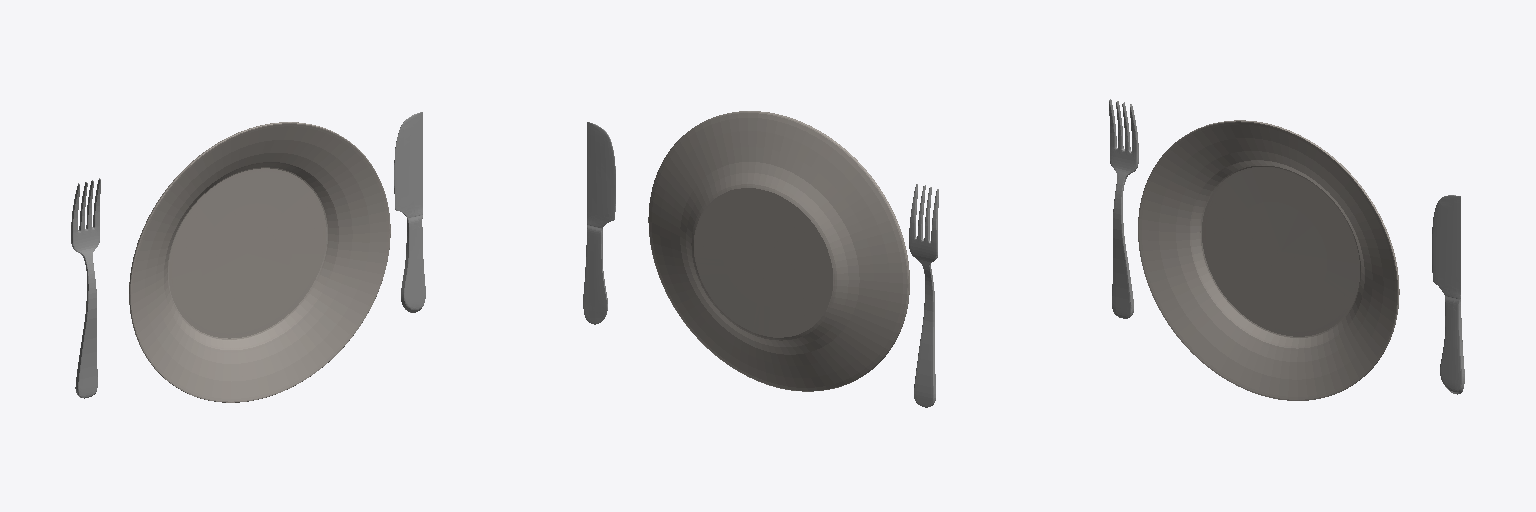
3 views of the same model, side by side, from view 1: azimuth 30°, elevation 25°; view 2: azimuth 150°, elevation 25°; view 3: azimuth 330°, elevation 25° (orthographic).
Visible parts, largest first — view 1: Object.2, Object.3, Object.1; view 2: Object.2, Object.3, Object.1; view 3: Object.2, Object.3, Object.1.
Part boxes in pixels (x1,y1,x2,y2): Object.2: (129,122,390,402); Object.3: (394,112,425,312); Object.1: (71,178,100,398); Object.2: (648,111,909,391); Object.3: (583,122,615,324); Object.1: (909,184,938,407); Object.2: (1138,120,1399,400); Object.3: (1432,195,1464,394); Object.1: (1109,99,1138,318).
Size of the model in its own units: 151 by 112 by 12.22.
1 materials, 1 textured.